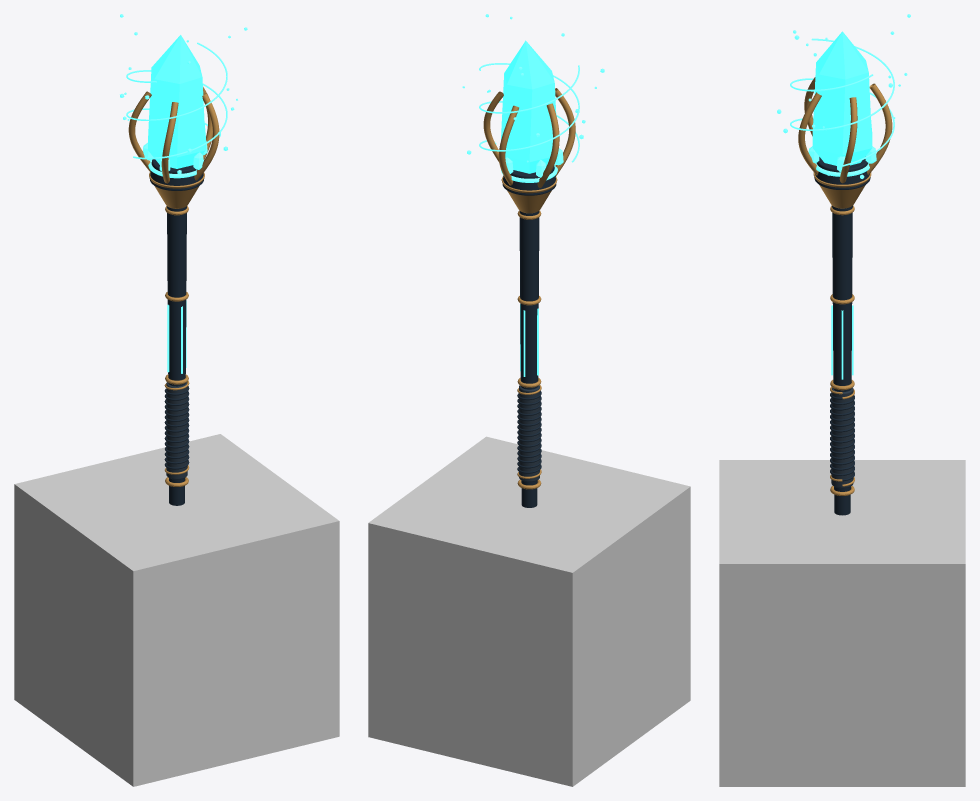
Rendered from Aetherthorn.glb.
3 renders of one model, left to right at view 1: azimuth 30°, elevation 25°; view 2: azimuth 150°, elevation 25°; view 3: azimuth 270°, elevation 25°, orthographic. The views are drawn at different scales.
Visible parts, largest first — view 1: Cube, Primary six sided power crystal, Tapered lacquer shaft, Long wrapped handgrip, Crown flared socket, Crown dark insert, Swept gold crown talon.004, Swept gold crown talon.003, Swept gold crown talon.002; view 2: Cube, Primary six sided power crystal, Tapered lacquer shaft, Long wrapped handgrip, Crown flared socket, Crown dark insert, Swept gold crown talon.002, Swept gold crown talon.001, Swept gold crown talon.003; view 3: Cube, Primary six sided power crystal, Tapered lacquer shaft, Long wrapped handgrip, Crown dark insert, Crown flared socket, Swept gold crown talon.001, Swept gold crown talon.004, Swept gold crown talon, Spiraling magical filament.001, Spiraling magical filament.
Part boxes in pixels (<box>): Cube: <box>14,434,339,786</box>; Primary six sided power crystal: <box>148,35,205,168</box>; Tapered lacquer shaft: <box>167,206,186,505</box>; Long wrapped handgrip: <box>166,382,187,479</box>; Crown flared socket: <box>149,172,204,208</box>; Crown dark insert: <box>149,159,204,190</box>; Swept gold crown talon.004: <box>194,93,219,180</box>; Swept gold crown talon.003: <box>161,102,178,183</box>; Swept gold crown talon.002: <box>128,91,151,172</box>; Cube: <box>368,436,690,786</box>; Primary six sided power crystal: <box>501,40,557,173</box>; Tapered lacquer shaft: <box>519,211,539,507</box>; Long wrapped handgrip: <box>519,385,539,481</box>; Crown flared socket: <box>501,176,557,213</box>; Crown dark insert: <box>502,165,556,195</box>; Swept gold crown talon.002: <box>537,103,559,187</box>; Swept gold crown talon.001: <box>498,105,518,185</box>; Swept gold crown talon.003: <box>555,88,575,176</box>; Cube: <box>719,460,965,786</box>; Primary six sided power crystal: <box>812,31,872,165</box>; Tapered lacquer shaft: <box>832,206,852,515</box>; Long wrapped handgrip: <box>831,387,853,488</box>; Crown dark insert: <box>814,157,870,189</box>; Crown flared socket: <box>813,172,871,208</box>; Swept gold crown talon.001: <box>867,83,892,175</box>; Swept gold crown talon.004: <box>798,92,821,175</box>; Swept gold crown talon: <box>839,97,857,183</box>; Spiraling magical filament.001: <box>790,38,894,130</box>; Spiraling magical filament: <box>790,74,894,166</box>.
Bounding box in the file's own units: 2 × 6.37 × 2.
